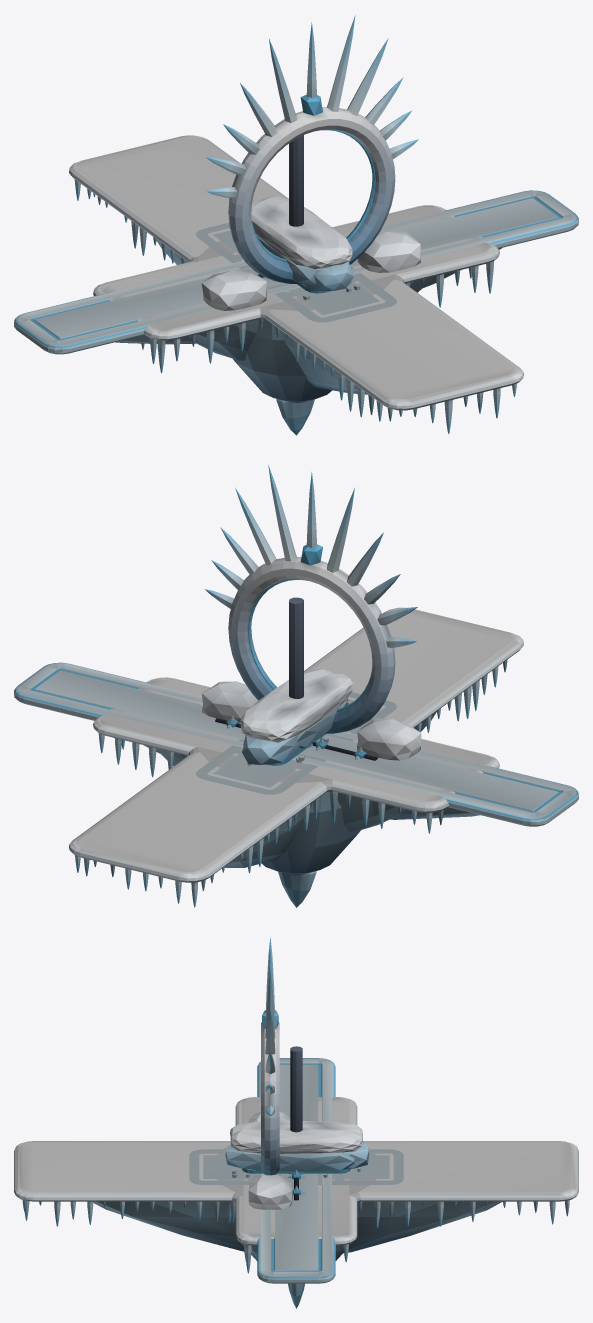
Rendered from glacier-1-CdaGSM6d.glb.
3 views of the same model, one above another, from view 1: azimuth 30°, elevation 25°; view 2: azimuth 150°, elevation 25°; view 3: azimuth 270°, elevation 25° (orthographic). The views are drawn at different scales.
Visible parts, largest first — view 1: block_10x2x43#0, portal_#0, block_40x2x6_ice#0, block_26x2x9#1, spout_2x8#0, disc_14x1.5#1, block_7x2x17_ice#0, press_4x6x7#0, blade_3x12x1#0; view 2: block_10x2x43#0, block_40x2x6_ice#0, portal_#0, block_26x2x9#1, spout_2x8#0, disc_14x1.5#1, block_7x2x17_ice#0, press_4x6x7#0, blade_3x12x1#0; view 3: block_10x2x43#0, block_40x2x6_ice#0, spout_2x8#0, portal_#0, block_26x2x9#1, block_7x2x17_ice#0, press_4x6x7#0, disc_14x1.5#1.
Part boxes in pixels (x1,y1,x2,y2): block_10x2x43#0: (69, 135, 523, 433); portal_#0: (201, 15, 421, 310); block_40x2x6_ice#0: (14, 190, 578, 354); block_26x2x9#1: (93, 205, 499, 373); spout_2x8#0: (251, 196, 360, 300); disc_14x1.5#1: (189, 227, 404, 402); block_7x2x17_ice#0: (196, 223, 396, 322); press_4x6x7#0: (289, 135, 303, 226); blade_3x12x1#0: (276, 398, 314, 435); block_10x2x43#0: (69, 607, 523, 907); block_40x2x6_ice#0: (14, 662, 578, 826); portal_#0: (202, 465, 421, 760); block_26x2x9#1: (93, 677, 499, 833); spout_2x8#0: (240, 669, 352, 765); disc_14x1.5#1: (188, 746, 360, 875); block_7x2x17_ice#0: (196, 692, 396, 794); press_4x6x7#0: (289, 597, 303, 698); blade_3x12x1#0: (278, 871, 316, 907); block_10x2x43#0: (14, 1141, 578, 1253); block_40x2x6_ice#0: (257, 1058, 335, 1283); spout_2x8#0: (225, 1120, 369, 1177); portal_#0: (248, 937, 292, 1209); block_26x2x9#1: (235, 1097, 357, 1273); block_7x2x17_ice#0: (189, 1149, 403, 1184); press_4x6x7#0: (290, 1046, 302, 1132); disc_14x1.5#1: (217, 1144, 375, 1260).
Size of the model in its own units: 40 by 30.47 by 43.36.
